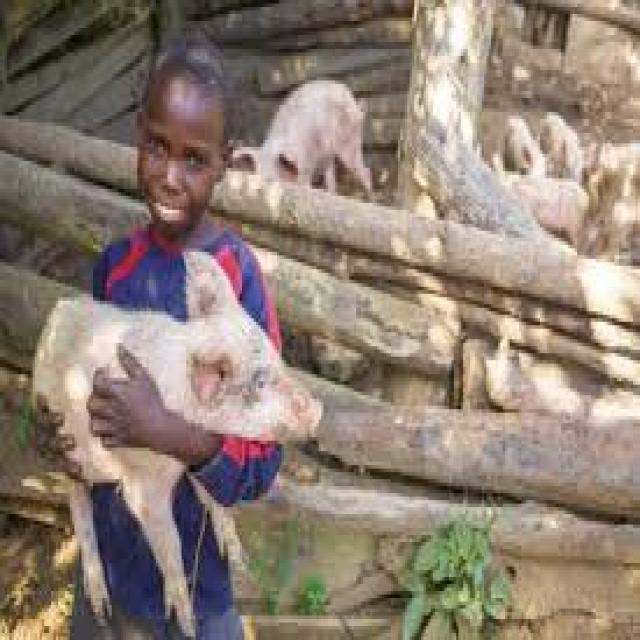pig: (30, 248, 321, 633), (233, 80, 370, 196)
